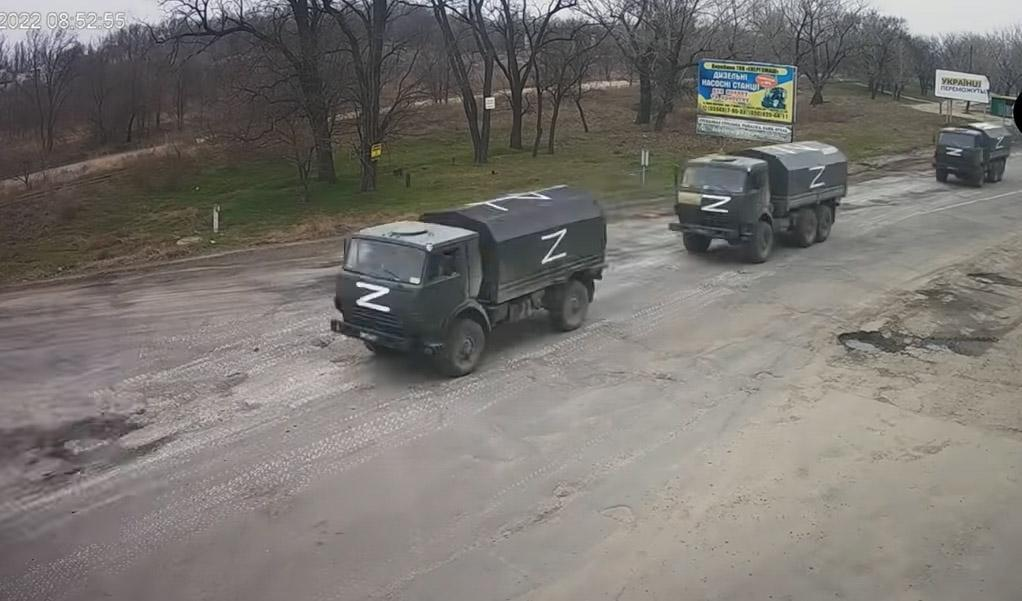truck: (320, 183, 610, 366), (668, 134, 850, 268), (928, 121, 1016, 196)
